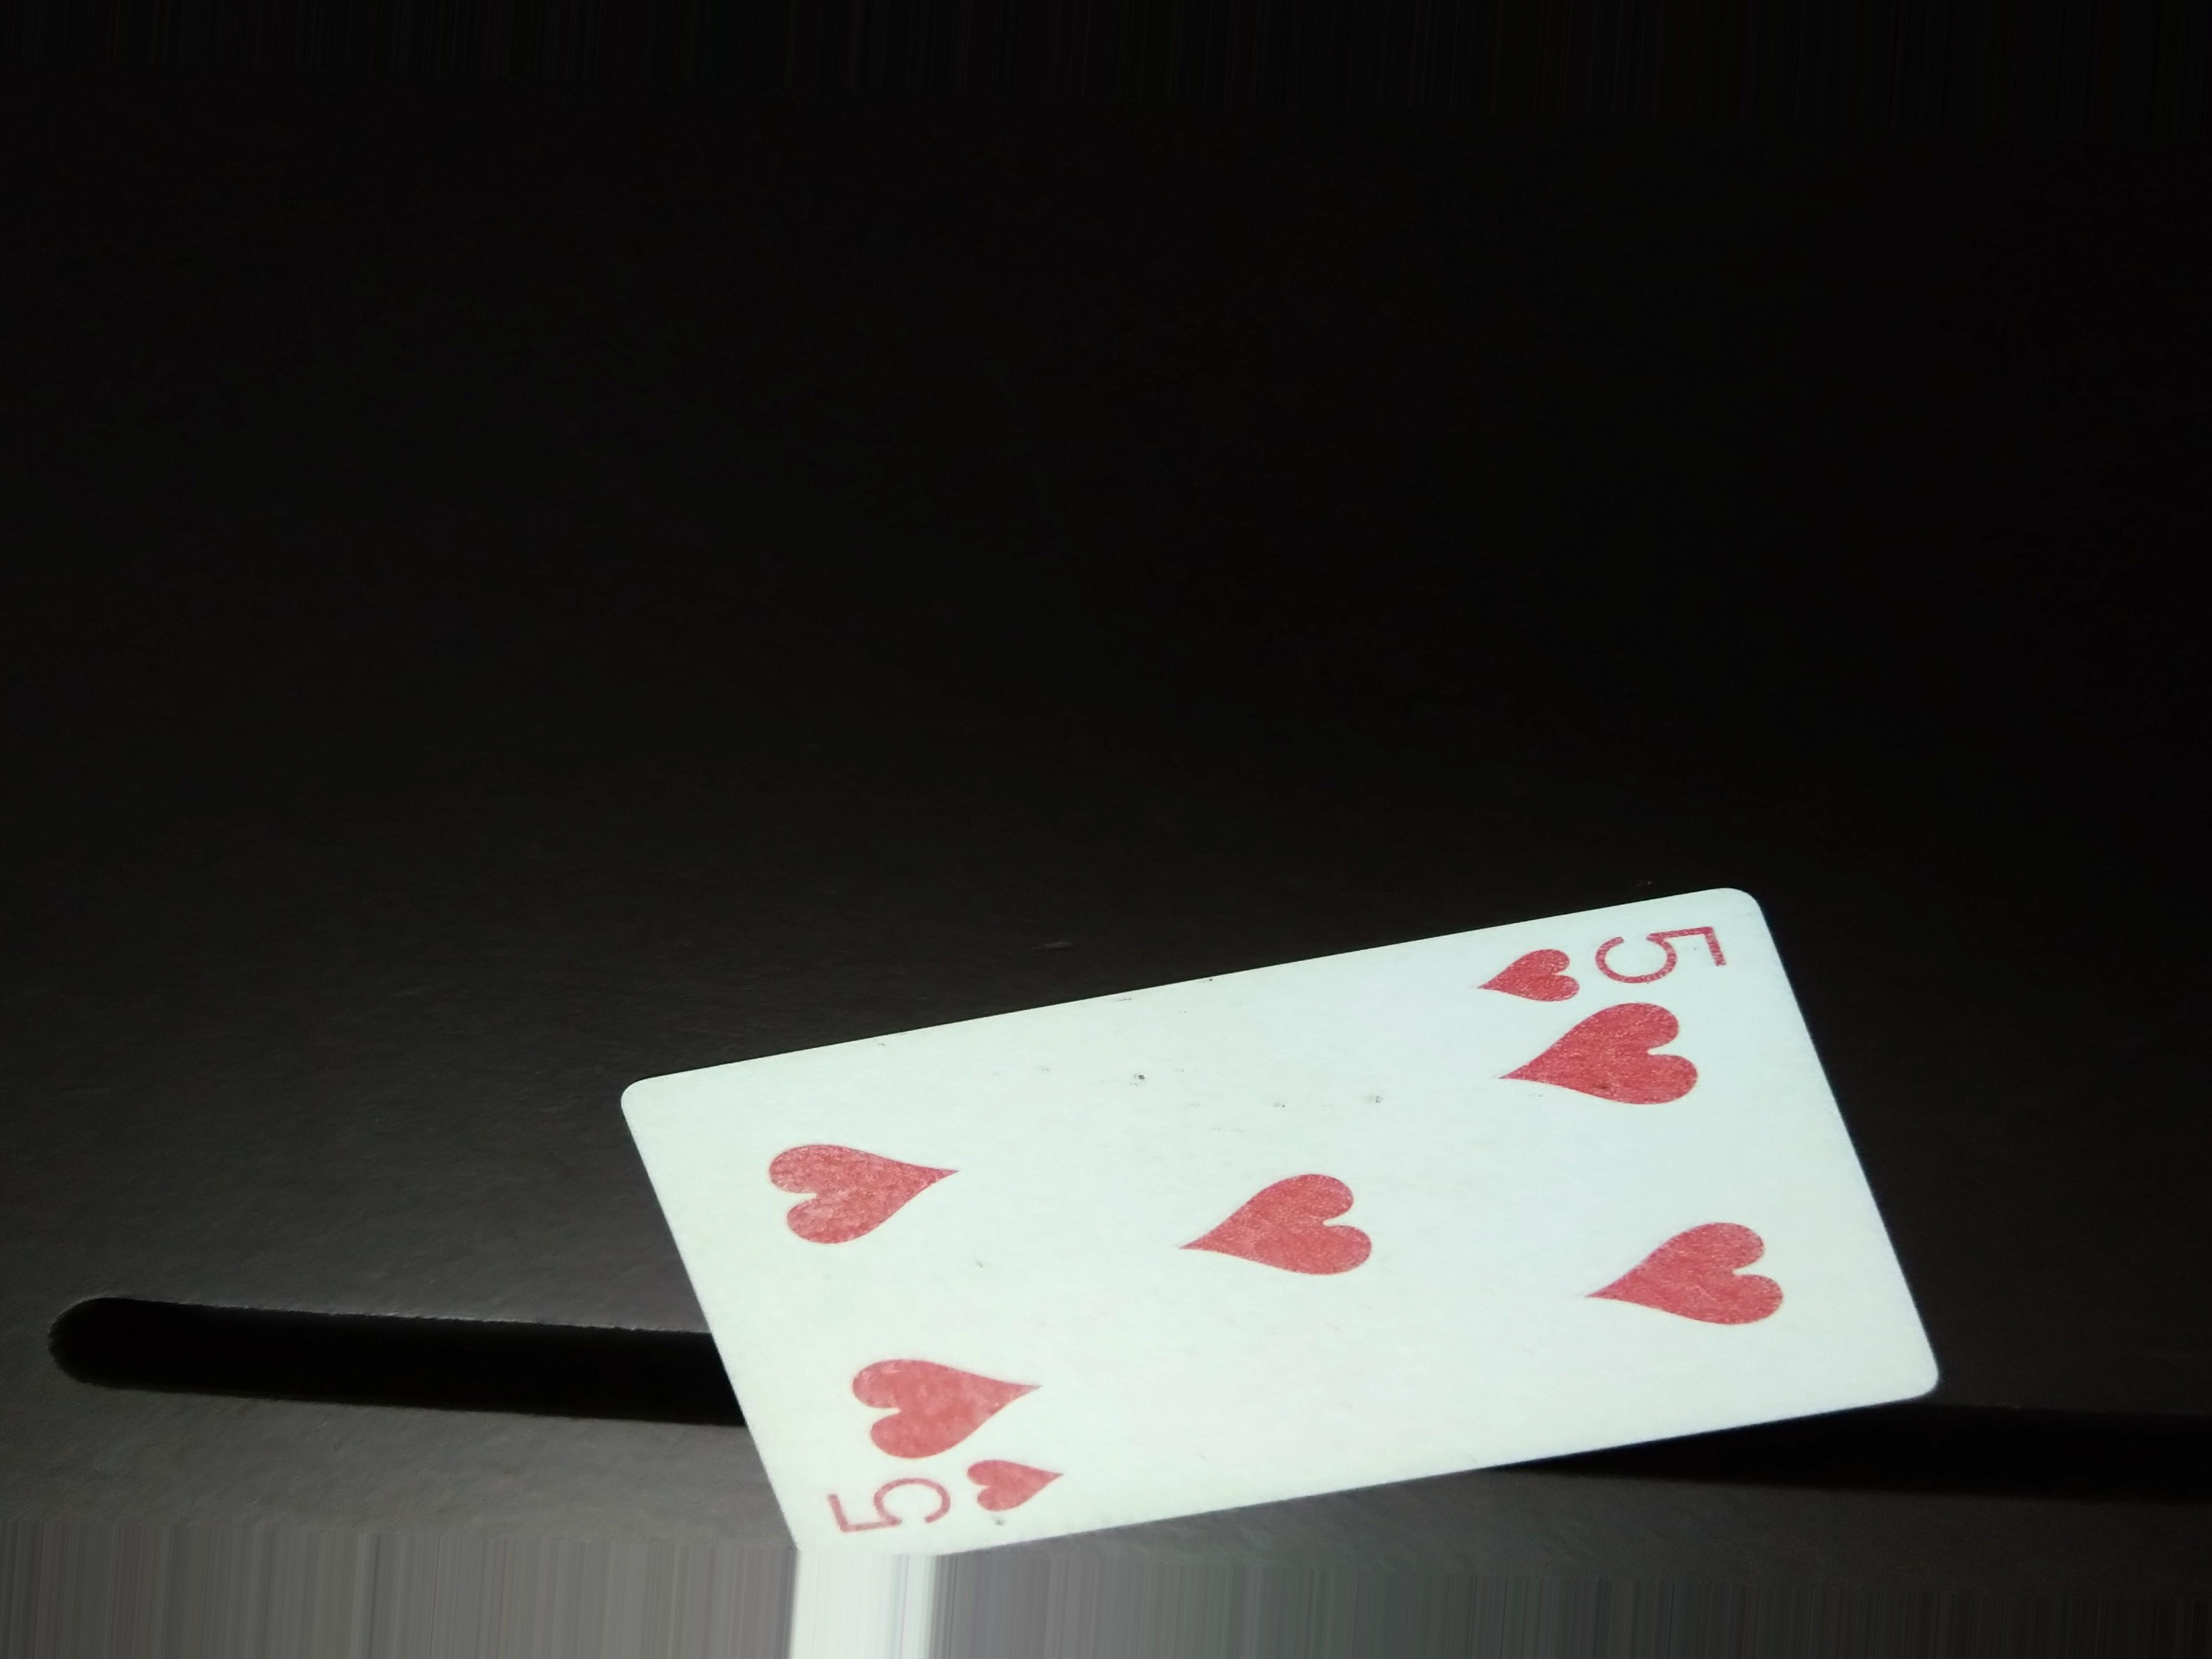5H: (1467, 915, 1756, 1012)
